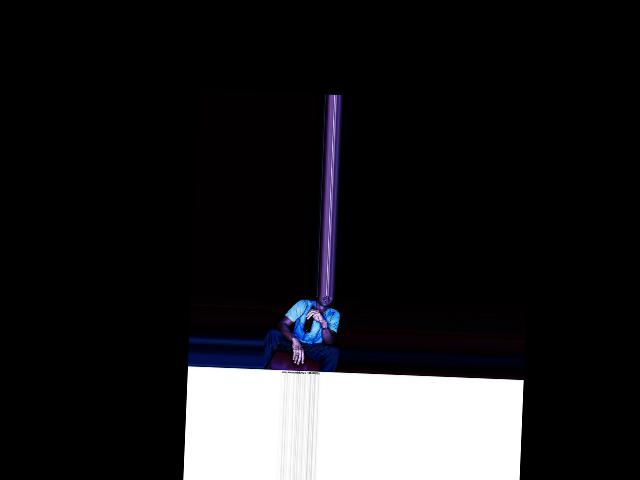beer: (302, 304, 314, 332)
